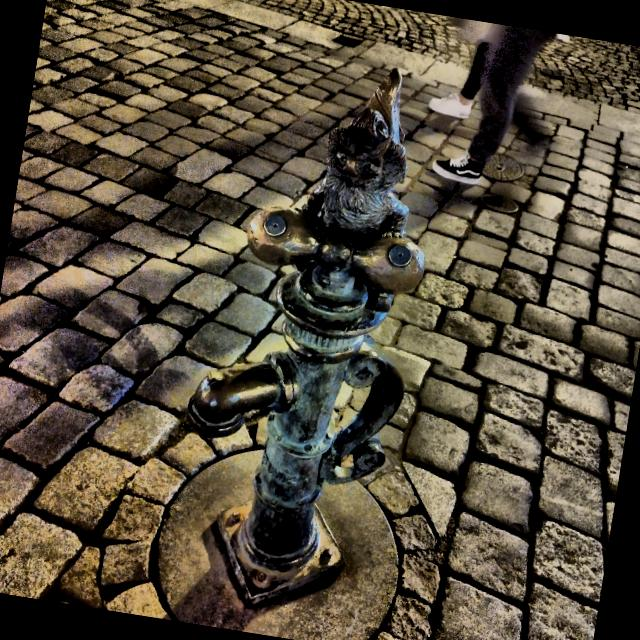Orzezwiacz: (187, 69, 425, 610)
